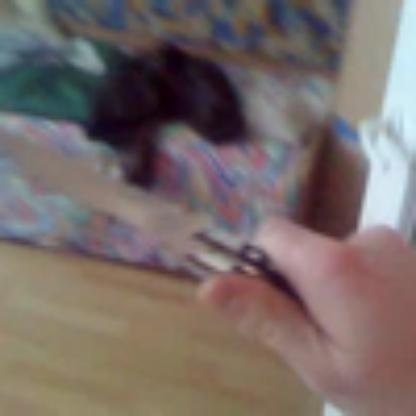knives: (0, 108, 307, 366)
